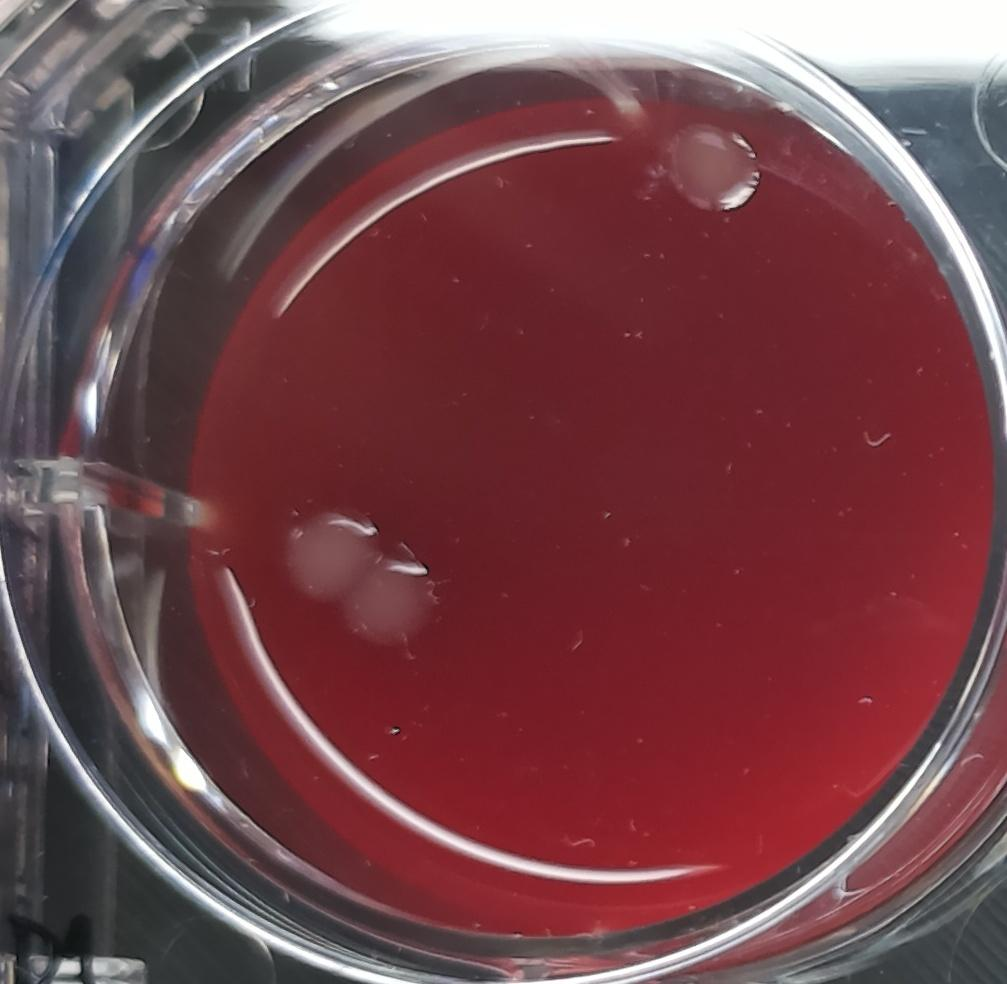vharveyi: (284, 506, 438, 653), (658, 115, 763, 219)
